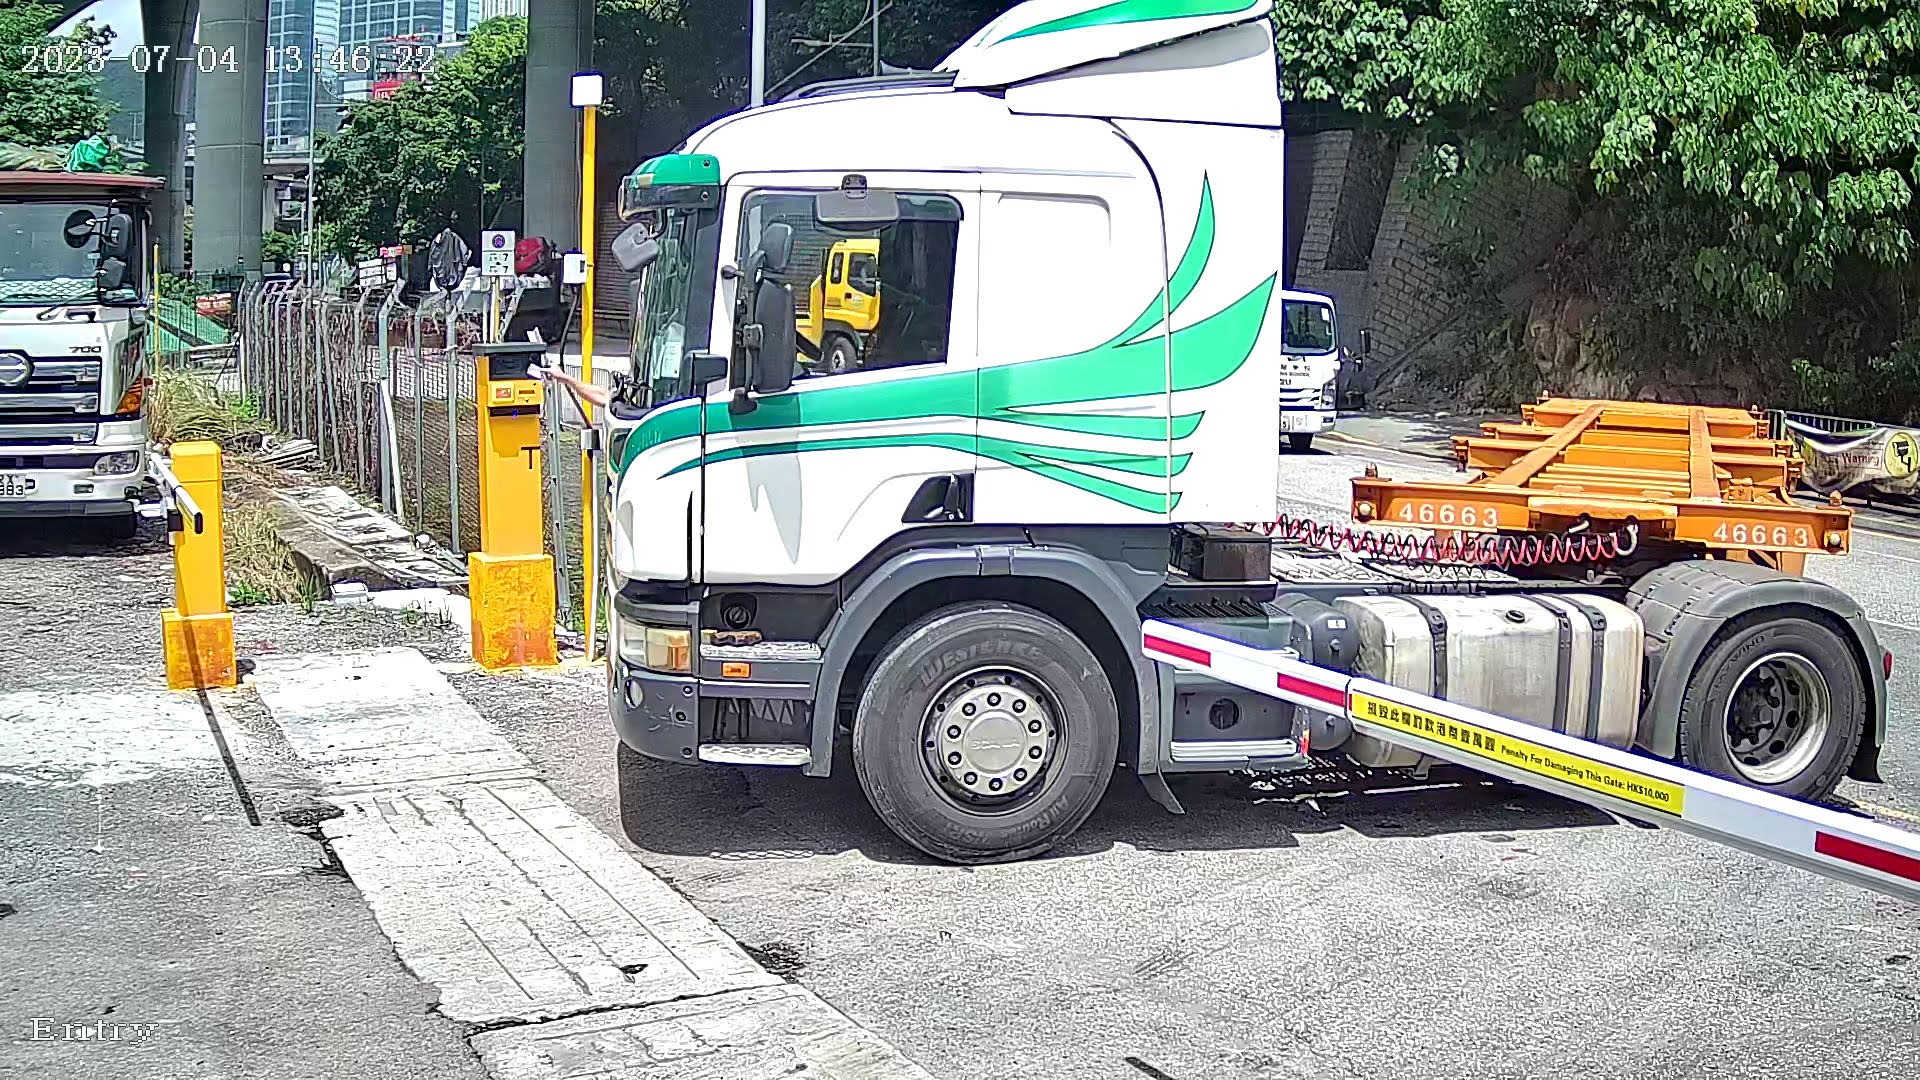truck: (589, 1, 1904, 893)
